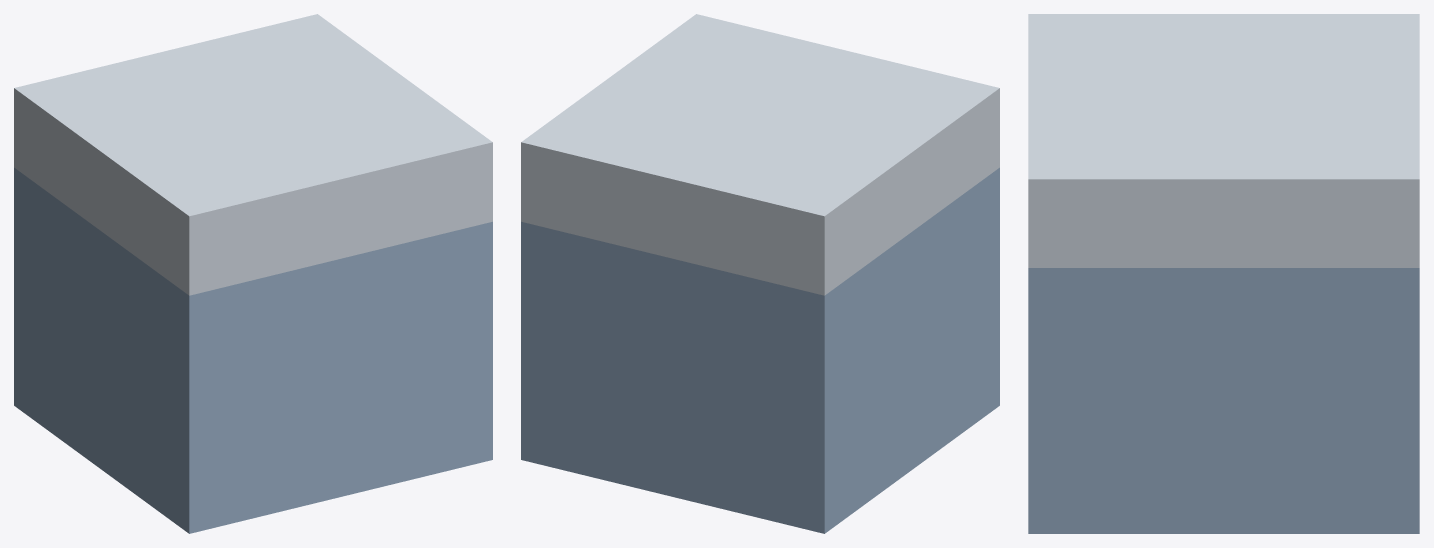
The model's file is stone-block-with-snow.glb.
The picture shows the model from 3 angles, left to right: view 1: azimuth 30°, elevation 25°; view 2: azimuth 150°, elevation 25°; view 3: azimuth 270°, elevation 25°; orthographic projection. The views are drawn at different scales.
Visible parts, largest first — view 1: generated(Clone); view 2: generated(Clone); view 3: generated(Clone).
Boxes of the visible parts, left/top/right/bottom form: generated(Clone): left=14, top=14, right=492, bottom=533; generated(Clone): left=521, top=14, right=999, bottom=533; generated(Clone): left=1028, top=14, right=1419, bottom=533.
Bounding box in the file's own units: 8 × 8 × 8.
Materials: 1 (1 with a texture image).
